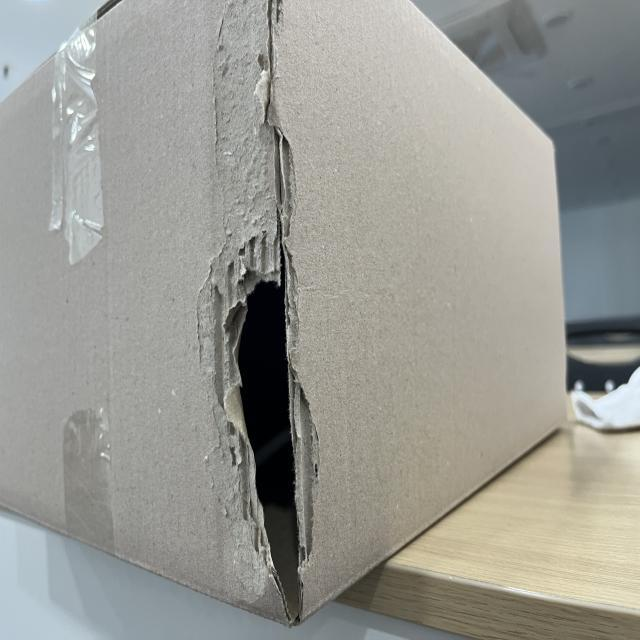hole: (228, 279, 322, 625)
